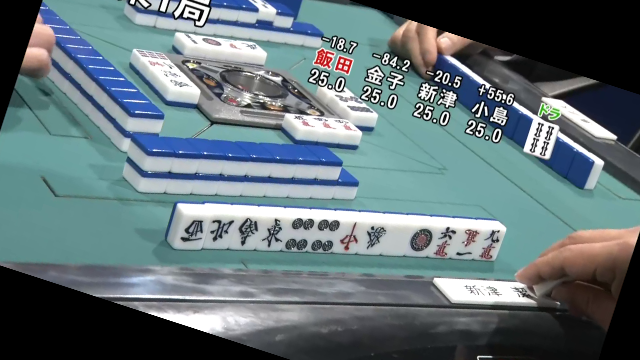Tehai: (160, 195, 511, 268)
